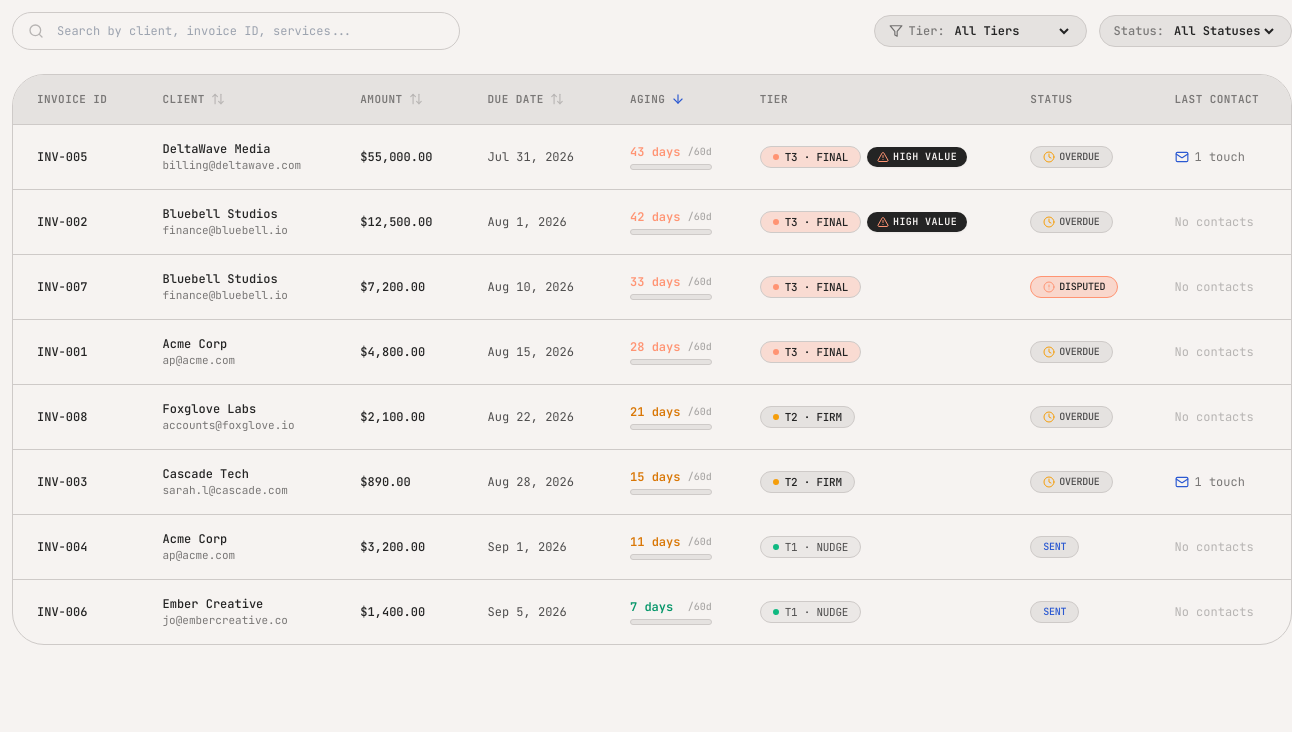
Test case: FRONT-02: Dashboard Components & Page › InvoiceTable Component › filters invoices client-side by search query
In the field with test id "invoice-search-input": (236, 31) [12, 12, 460, 50], type "DeltaWave"
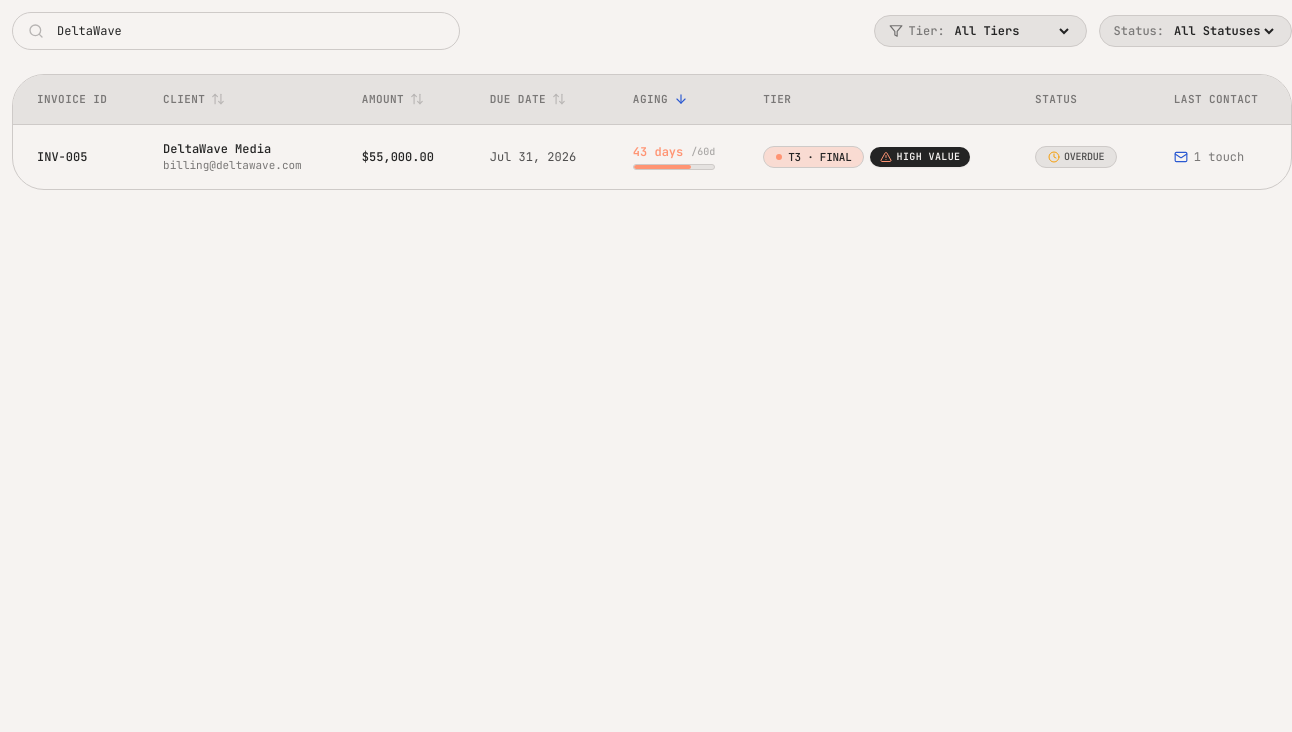
Expected: the row with test id "invoice-row-INV-005" is shown, [13, 124, 1291, 188]
Expected: the row with test id "invoice-row-INV-008" is gone
